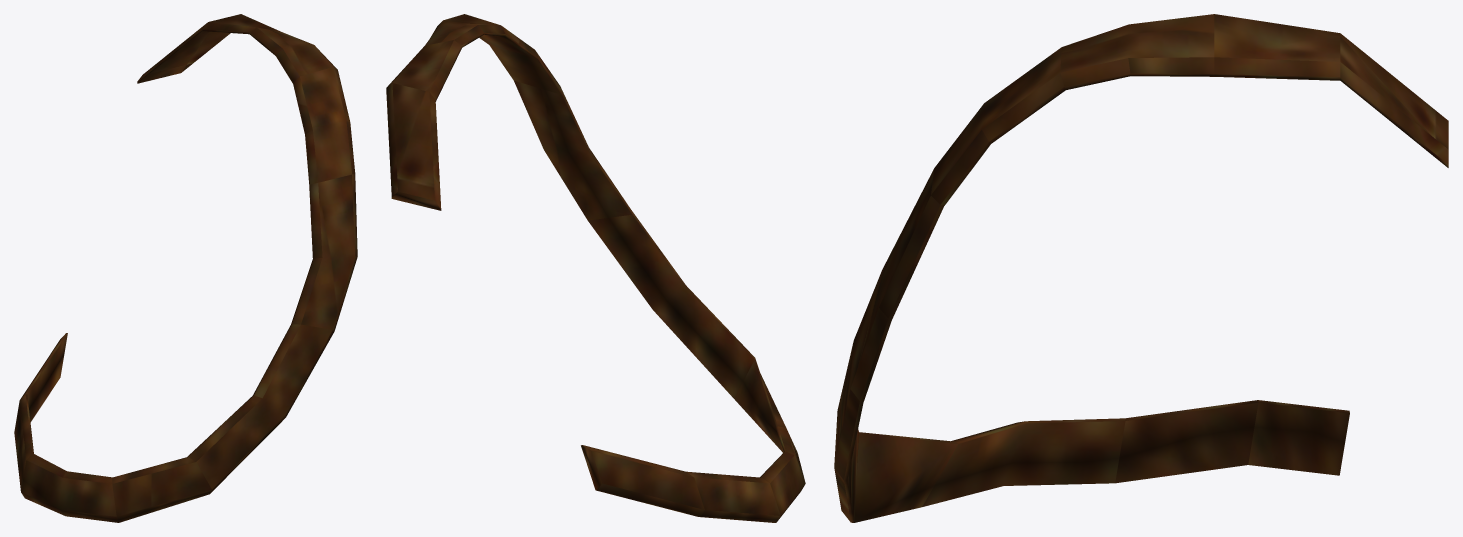
File: Strap.obj
3 renders of one model, left to right at view 1: azimuth 30°, elevation 25°; view 2: azimuth 150°, elevation 25°; view 3: azimuth 270°, elevation 25°, orthographic. The views are drawn at different scales.
Parts seen in each view (by area): view 1: Strap; view 2: Strap; view 3: Strap.
Boxes of the visible parts, bbox=[...] form: Strap: bbox=[14, 14, 357, 522]; Strap: bbox=[386, 14, 805, 522]; Strap: bbox=[834, 14, 1448, 522].
Size of the model in its own units: 0.2034 by 0.2488 by 0.1995.
1 material, 1 textured.
